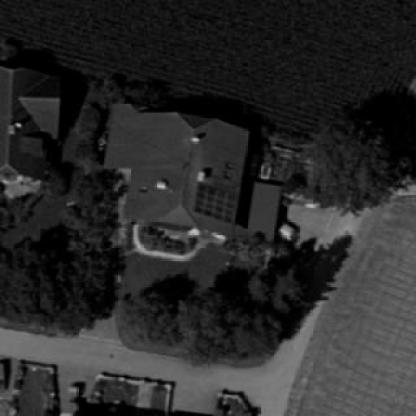solar-pv-panel: (193, 184, 237, 222)
